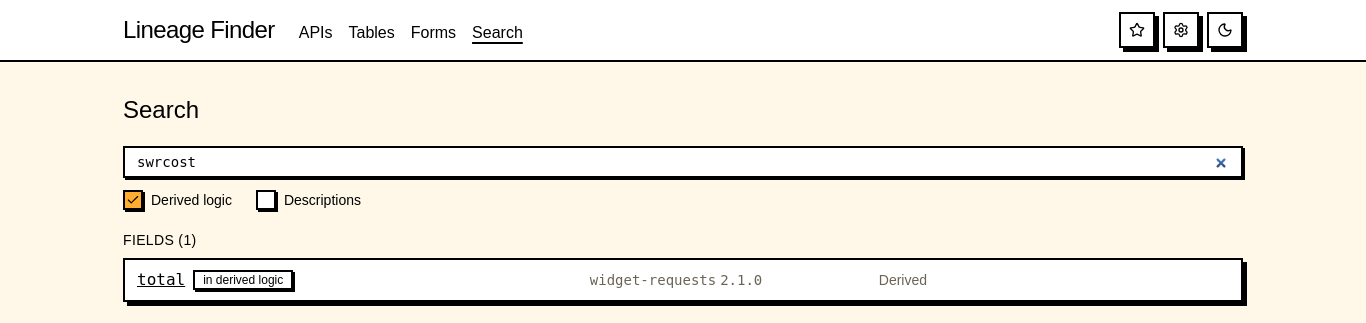
Test: the Search page › searches derived logic with that switch on (as it starts), and not with it off
Expected: the list item "total in derived logic widget-requests 2.1.0 Derived" is shown, [137,270,927,290]
Step 1. Click the checkbox labelled "Derived logic" → click(191, 200), box [151,193,232,207]
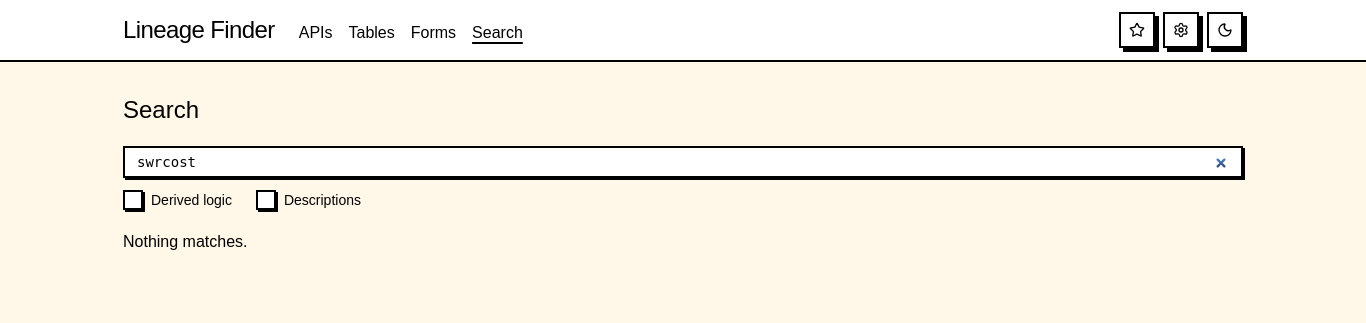
Result: the text "Nothing matches." is shown at [123,233,248,250]
